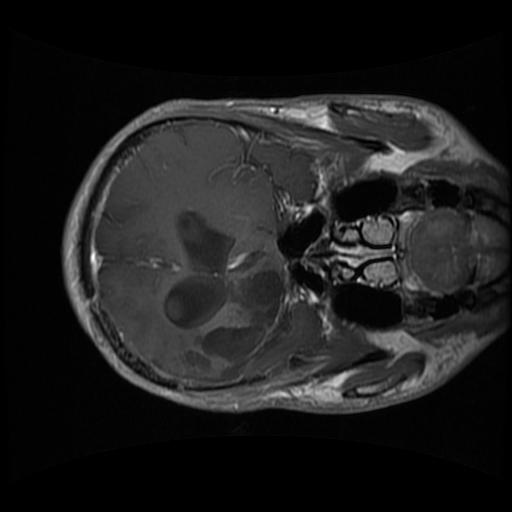glioma: (177, 267, 294, 384)
